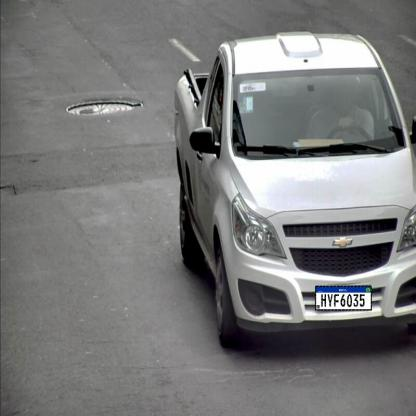PlacaM: (315, 286, 372, 310)
